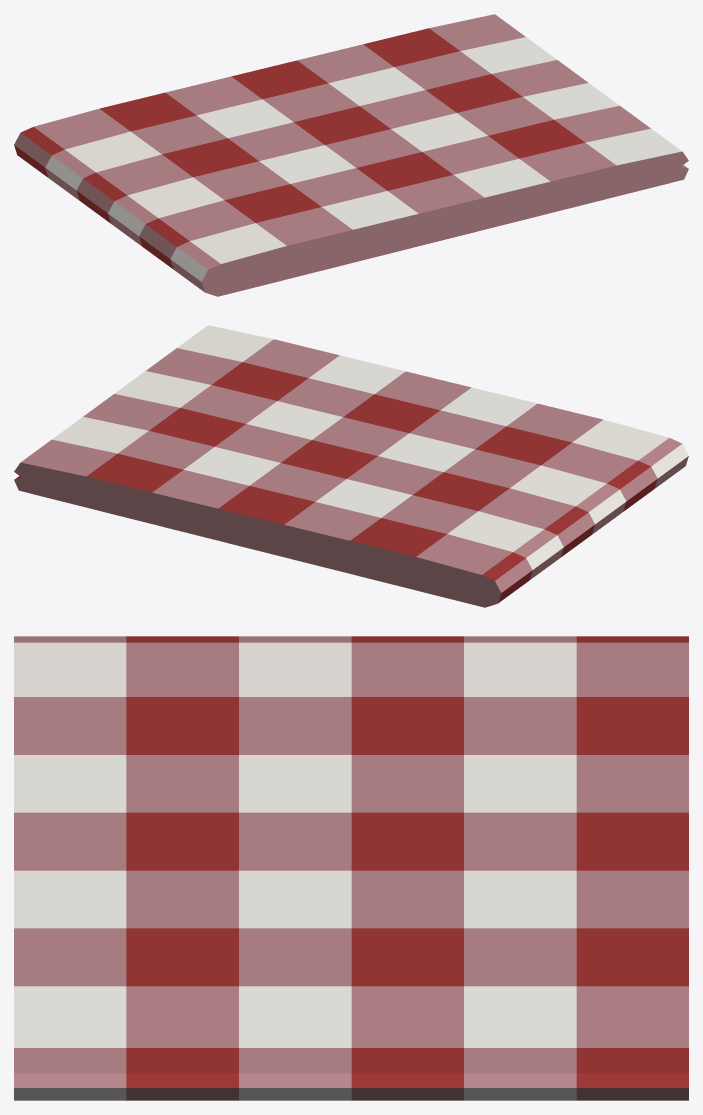
The model's file is tea_towel.glb.
3 renders of one model, top to bottom at view 1: azimuth 30°, elevation 25°; view 2: azimuth 150°, elevation 25°; view 3: azimuth 270°, elevation 25°, orthographic. The views are drawn at different scales.
Parts seen in each view (by area): view 1: tea_towel; view 2: tea_towel; view 3: tea_towel.
Part boxes in pixels (x1,y1,x2,y2): tea_towel: (14,14,688,296); tea_towel: (14,325,688,607); tea_towel: (14,636,688,1100).
Size of the model in its own units: 0.3 by 0.02 by 0.2.
Materials: 1 (1 with a texture image).
